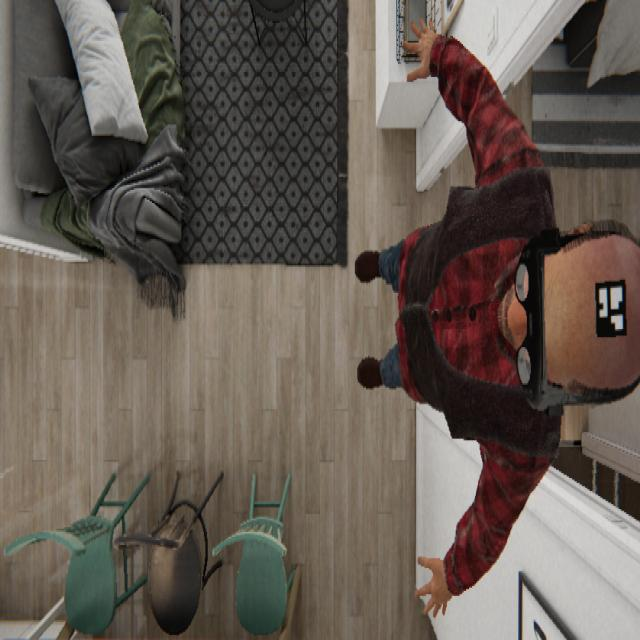AruCO: (593, 275, 627, 339)
Human: (354, 13, 638, 619)
